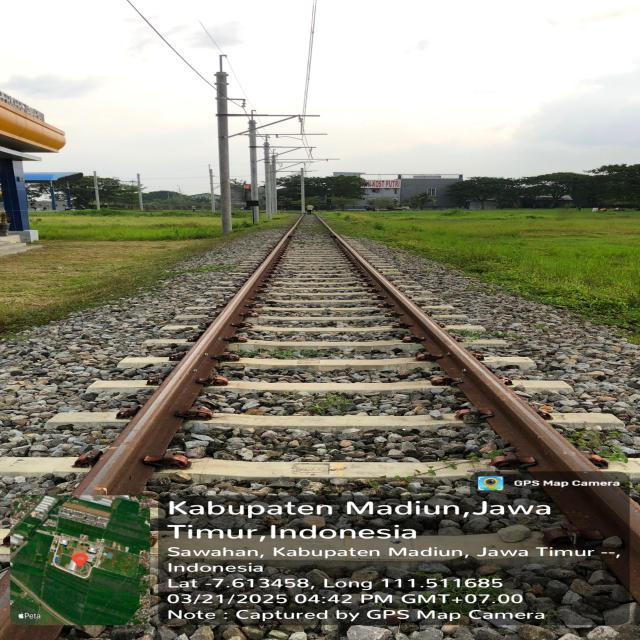rail-detection: (330, 230, 640, 603), (74, 226, 295, 495)
